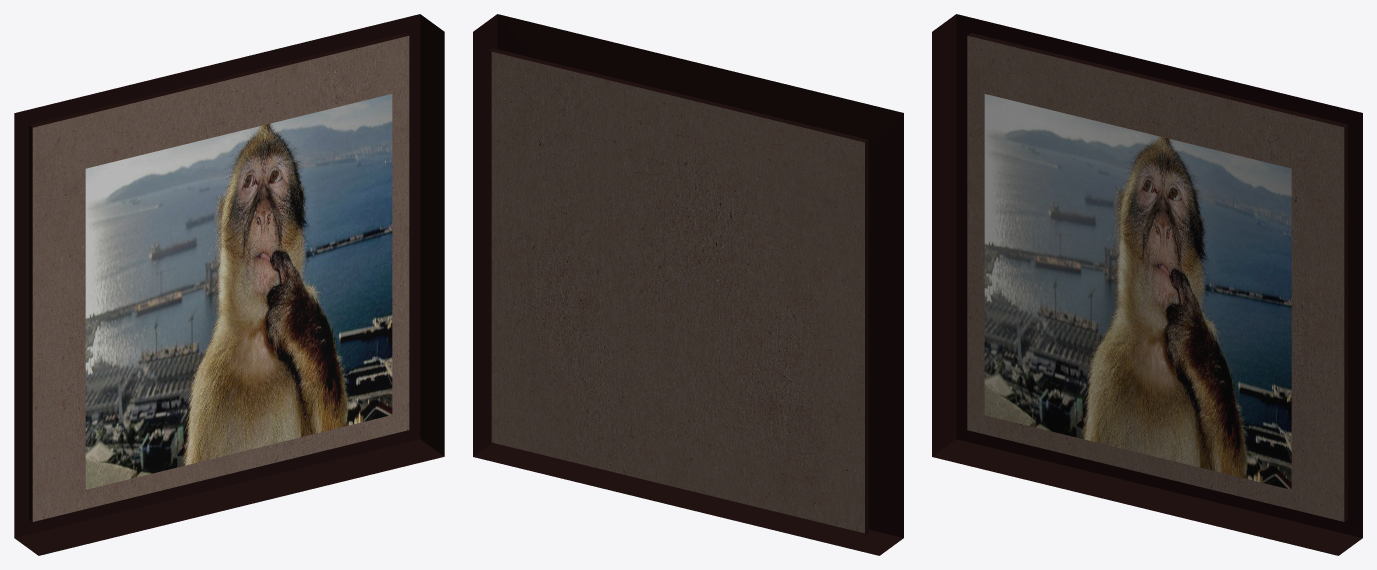
3 views of the same model, side by side, from view 1: azimuth 30°, elevation 25°; view 2: azimuth 150°, elevation 25°; view 3: azimuth 330°, elevation 25° (orthographic).
Visible parts, largest first — view 1: Frame 1; view 2: Frame 1; view 3: Frame 1.
Boxes of the visible parts, x1,y1,x2,y2 form: Frame 1: [14, 14, 444, 555]; Frame 1: [473, 14, 903, 555]; Frame 1: [932, 14, 1362, 555].
Size of the model in its own units: 2 by 2 by 0.2091.
Materials: 3 (2 with a texture image).
